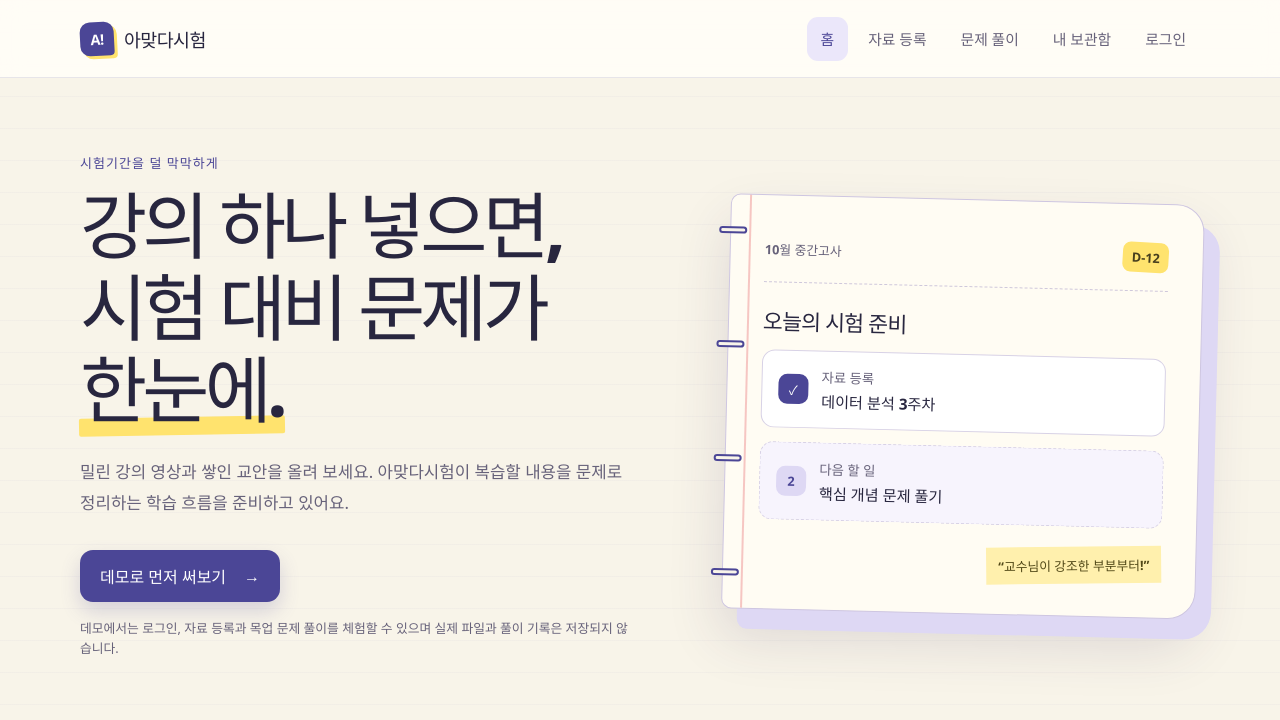
Test: AppRouter › 홈에서 데모 로그인 화면으로 이동할 수 있다
Expected: the heading "강의 하나 넣으면,시험 대비 문제가 한눈에." is shown, [80,184,636,429]
Expected: the text "아맞다시험" is shown, [124,26,206,52]
Click the link "데모로 먼저 써보기 →" at (180, 576), box [80,550,280,602]
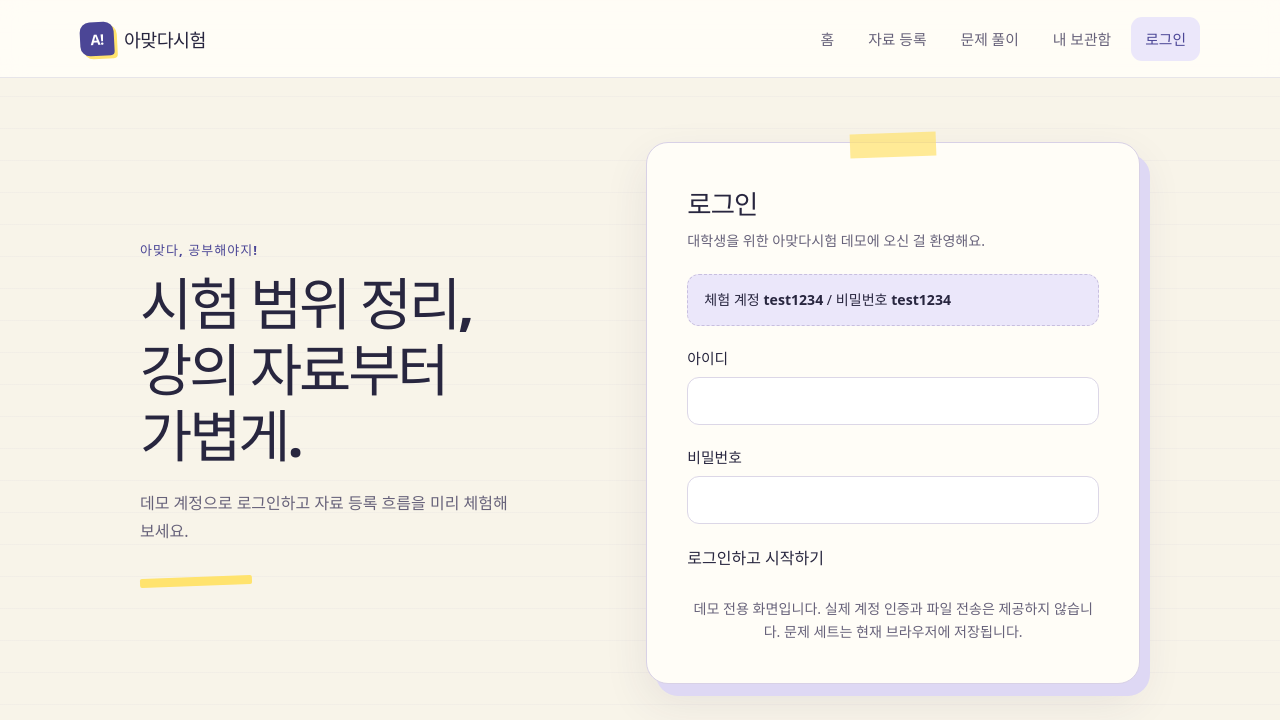
Expected: the heading "로그인" is shown, [687,186,757,222]
